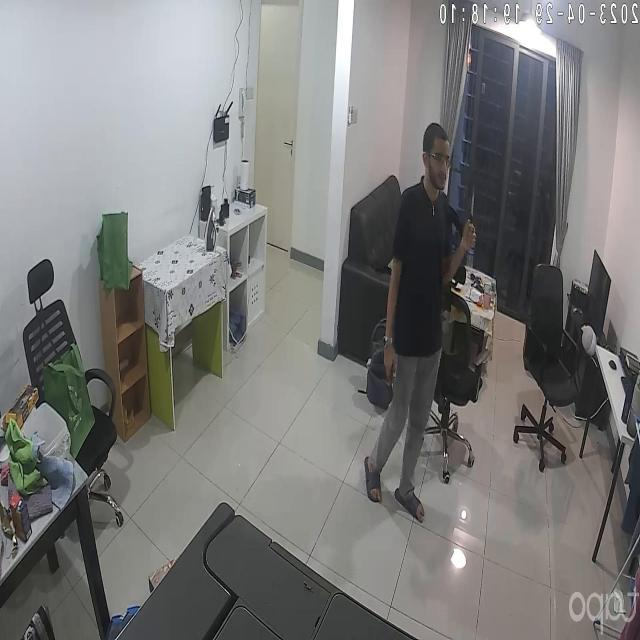Knife: (462, 189, 482, 234)
